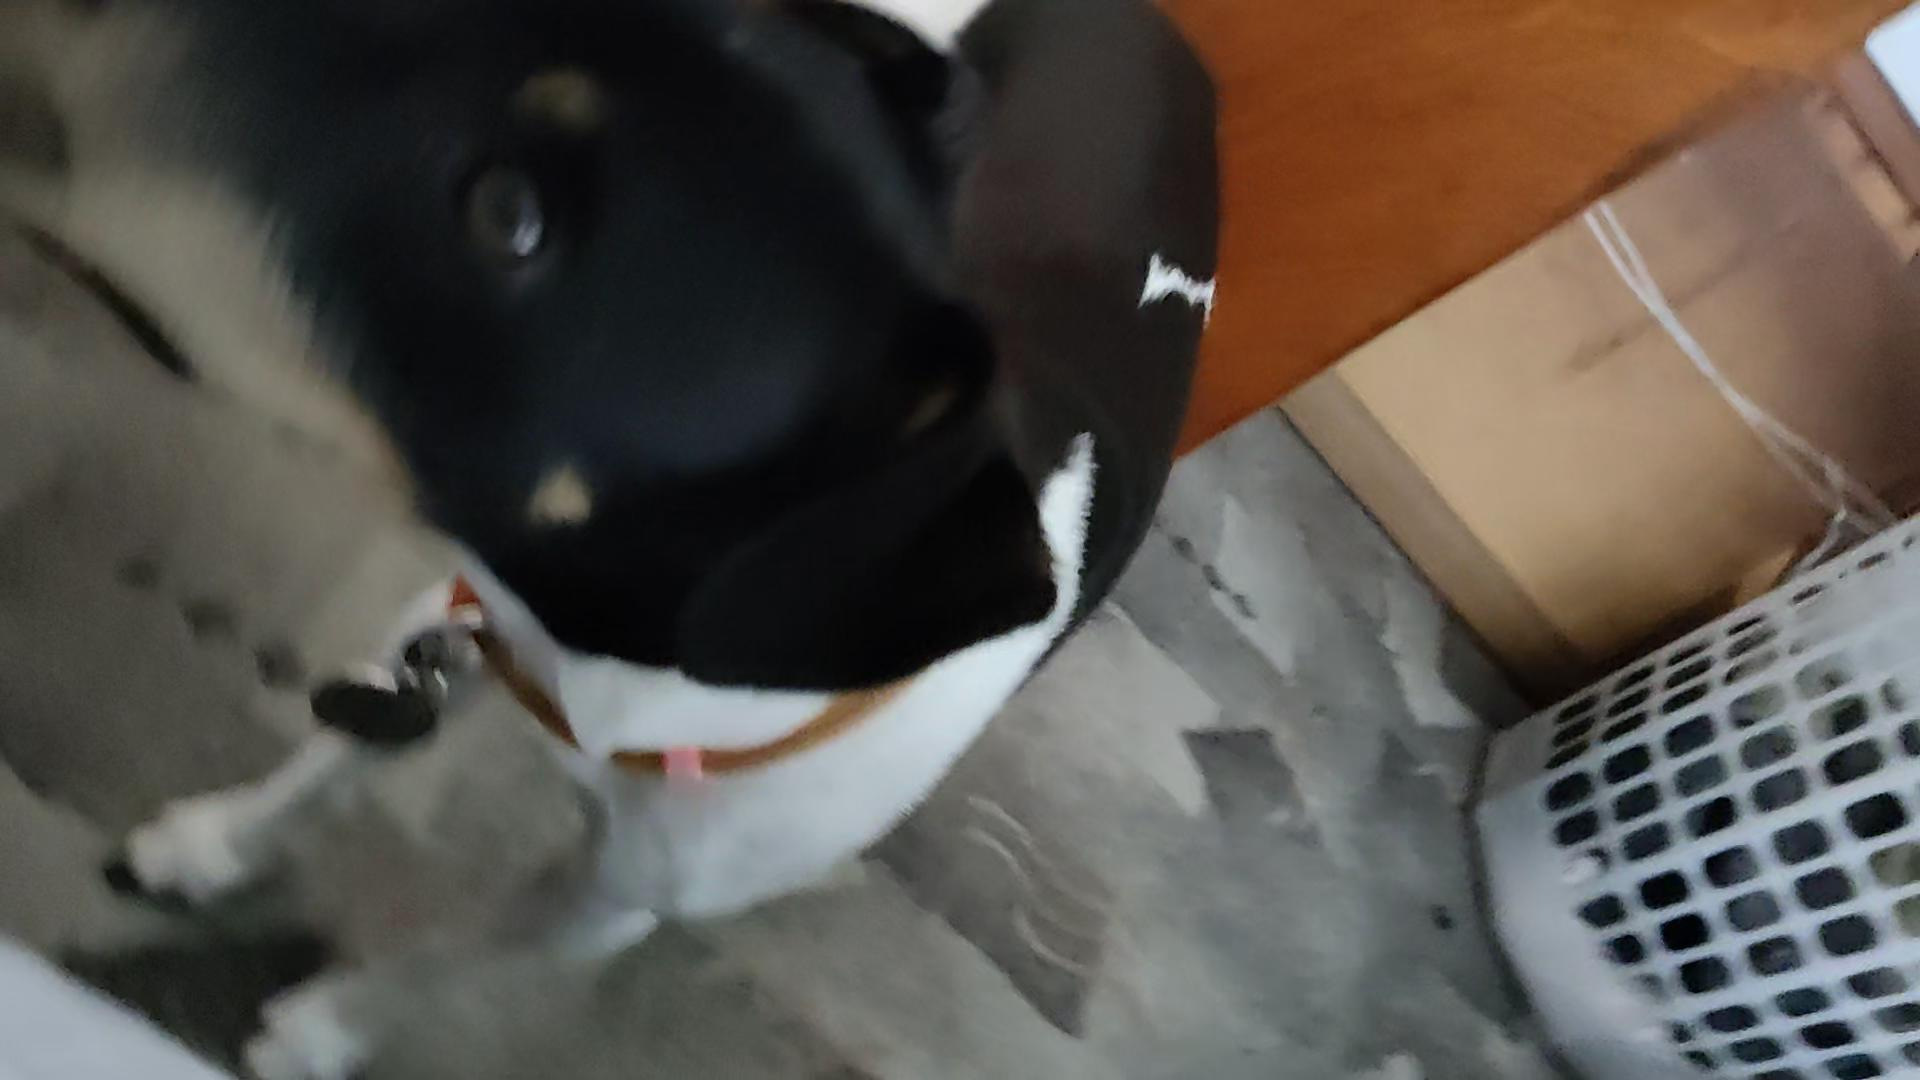Dog: (0, 0, 1238, 1080)
